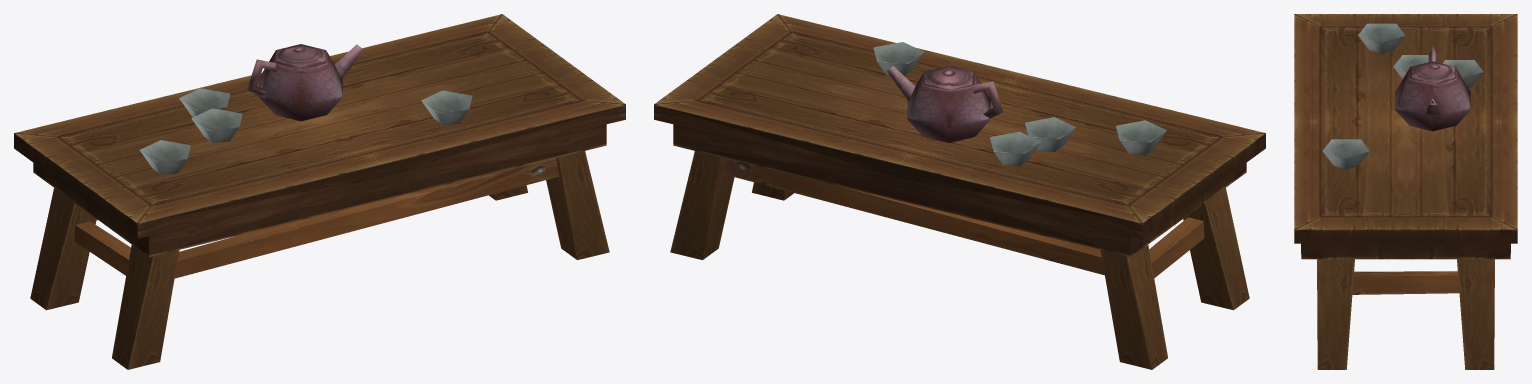
File: szc_object_tanwei11a_1.FBX
The picture shows the model from 3 angles, left to right: view 1: azimuth 30°, elevation 25°; view 2: azimuth 150°, elevation 25°; view 3: azimuth 270°, elevation 25°; orthographic projection. The views are drawn at different scales.
Parts seen in each view (by area): view 1: szc_object_tanwei11a_1; view 2: szc_object_tanwei11a_1; view 3: szc_object_tanwei11a_1.
Part boxes in pixels (x1,y1,x2,y2): szc_object_tanwei11a_1: [14, 14, 625, 369]; szc_object_tanwei11a_1: [654, 14, 1265, 369]; szc_object_tanwei11a_1: [1294, 14, 1517, 369].
Bounding box in the file's own units: 235 × 99.6 × 103.
